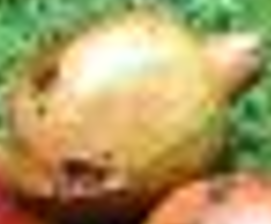pomegranate_B: (9, 4, 266, 212)
